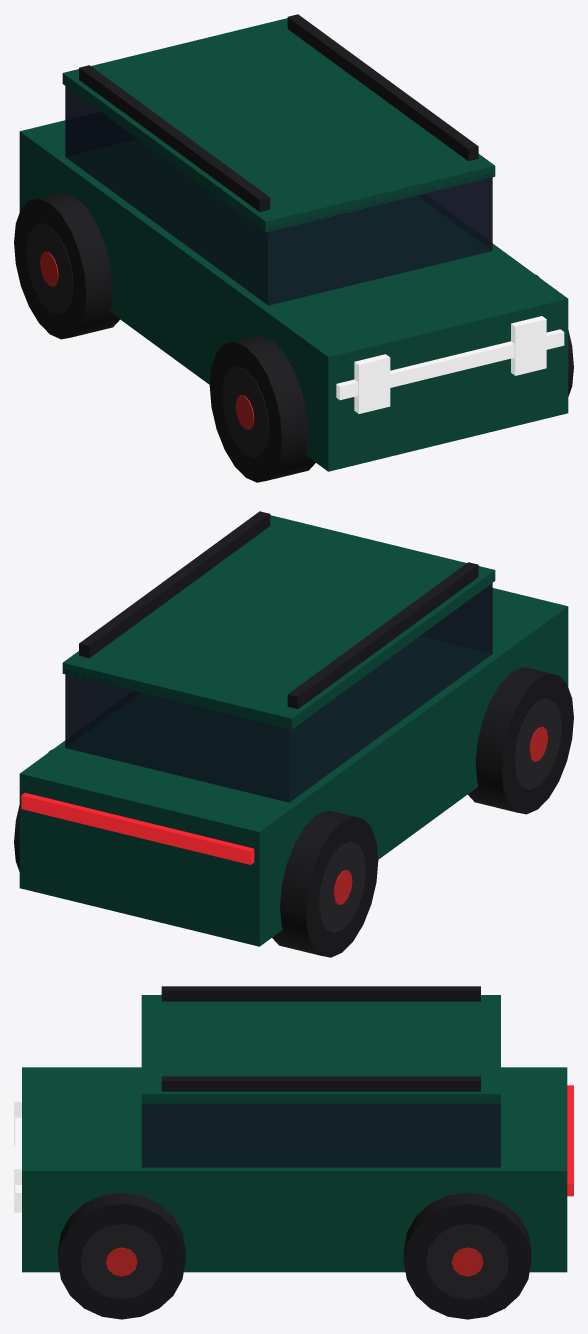
File: rivian_r1s.glb
3 renders of one model, top to bottom at view 1: azimuth 30°, elevation 25°; view 2: azimuth 150°, elevation 25°; view 3: azimuth 270°, elevation 25°, orthographic. The views are drawn at different scales.
Size of the model in its own units: 0.5366 by 0.4394 by 1.
